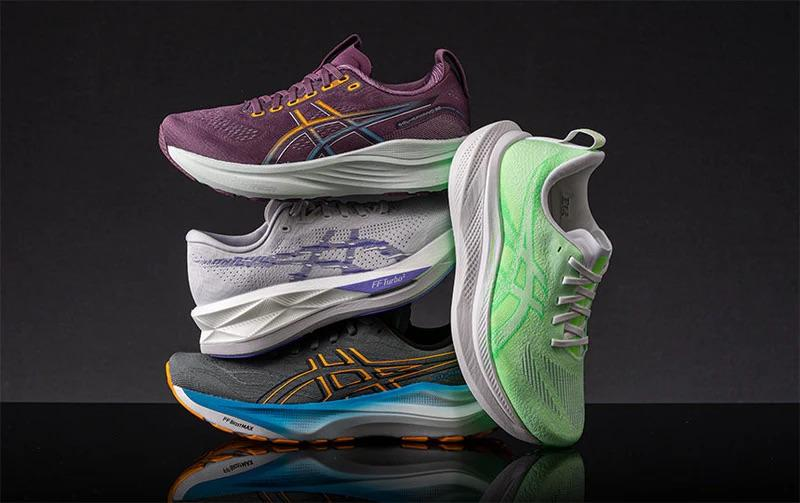asics logo: (191, 221, 418, 294), (253, 87, 445, 169), (483, 170, 556, 369), (246, 340, 449, 410)
